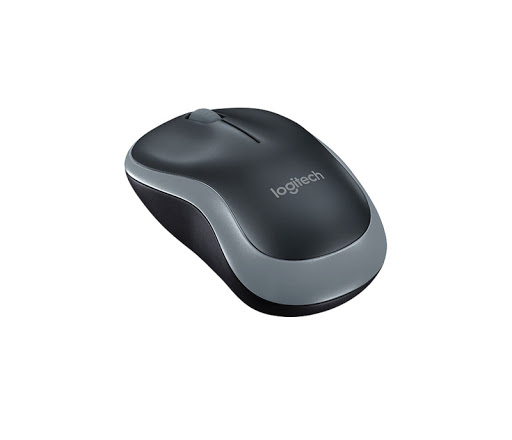logitech-mouse-m185: (125, 104, 390, 316)
